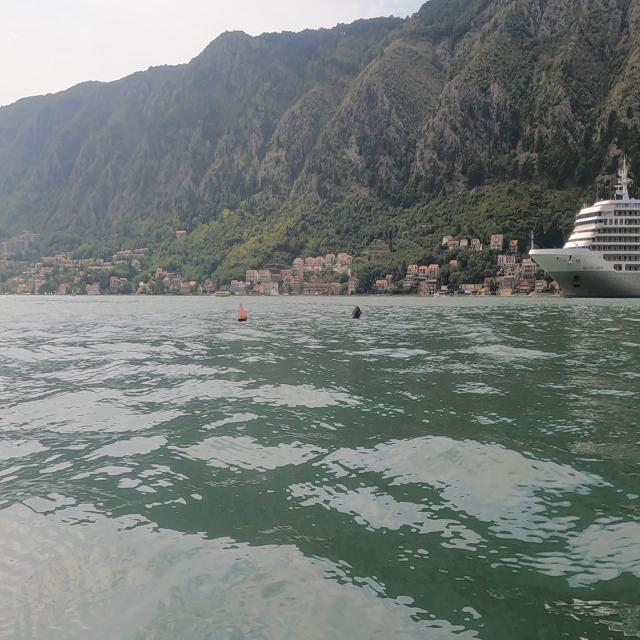boat: (528, 151, 638, 300)
buoy: (344, 299, 367, 330), (234, 296, 254, 326)
